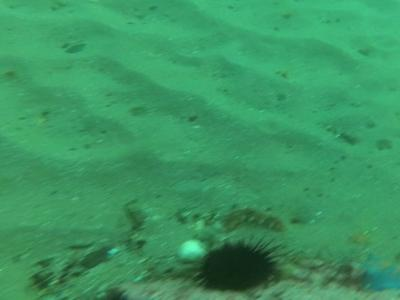holothurian: (217, 209, 290, 234)
urchin: (195, 238, 294, 291)
